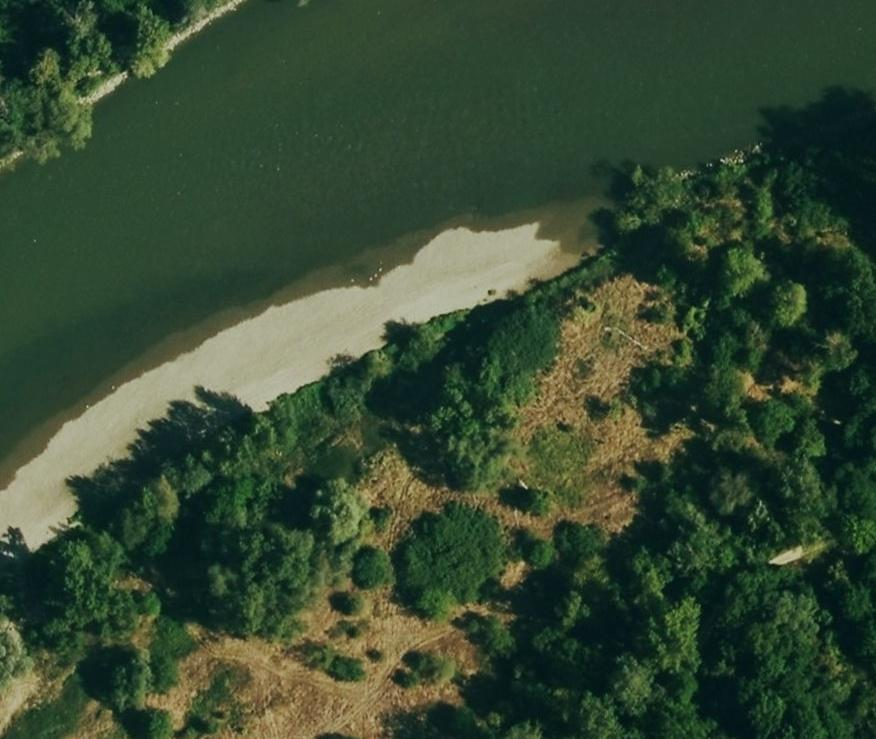forest: (452, 91, 876, 737), (0, 263, 602, 690), (0, 0, 226, 169), (397, 512, 506, 612)
lake: (0, 2, 876, 458)
